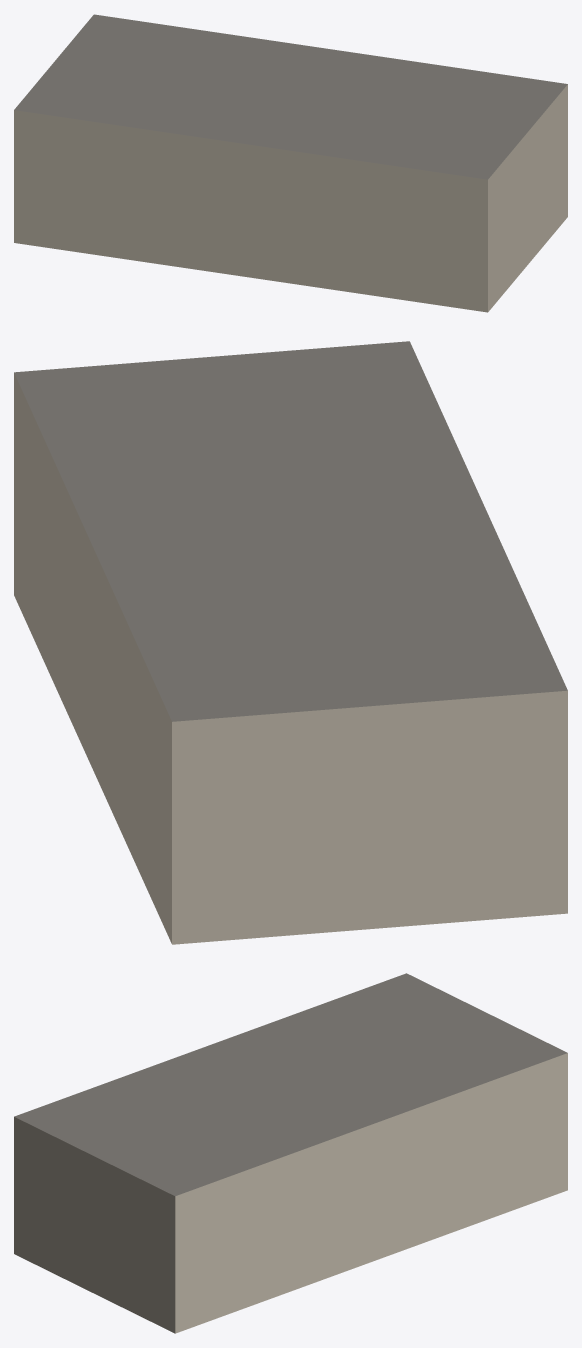
The picture shows the model from 3 angles, top to bottom: view 1: azimuth 30°, elevation 25°; view 2: azimuth 150°, elevation 25°; view 3: azimuth 270°, elevation 25°; orthographic projection. The views are drawn at different scales.
Parts seen in each view (by area): view 1: HP-w369342509; view 2: HP-w369342509; view 3: HP-w369342509.
Boxes of the visible parts, x1,y1,x2,y2 form: HP-w369342509: [14, 14, 567, 312]; HP-w369342509: [14, 341, 567, 944]; HP-w369342509: [14, 973, 567, 1333].
Size of the model in its own units: 62.68 by 18 by 65.78.
